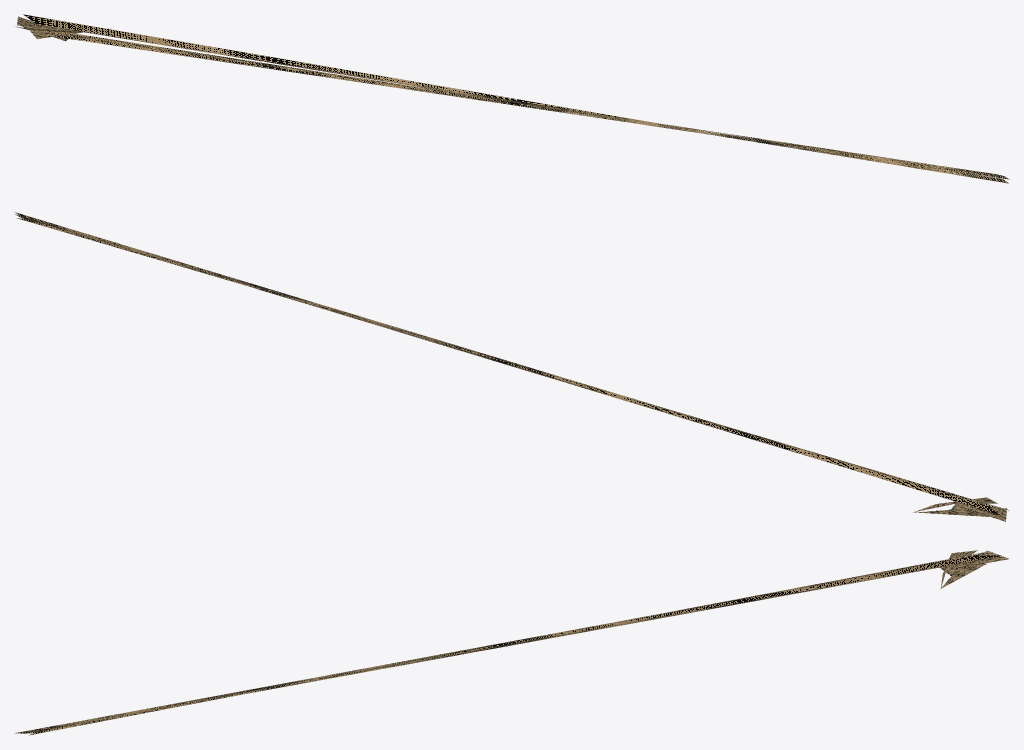
3 views of the same model, one above another, from view 1: azimuth 30°, elevation 25°; view 2: azimuth 210°, elevation 25°; view 3: azimuth 270°, elevation 25° (orthographic).
Visible parts, largest first — view 1: ef_749; view 2: ef_749; view 3: ef_749.
Boxes of the visible parts, left/top/right/bottom form: ef_749: left=16, top=14, right=1009, bottom=183; ef_749: left=15, top=212, right=1008, bottom=521; ef_749: left=15, top=550, right=1008, bottom=735.
Bounding box in the file's own units: 6.82 × 0.9653 × 11.21.
Materials: 1 (1 with a texture image).
